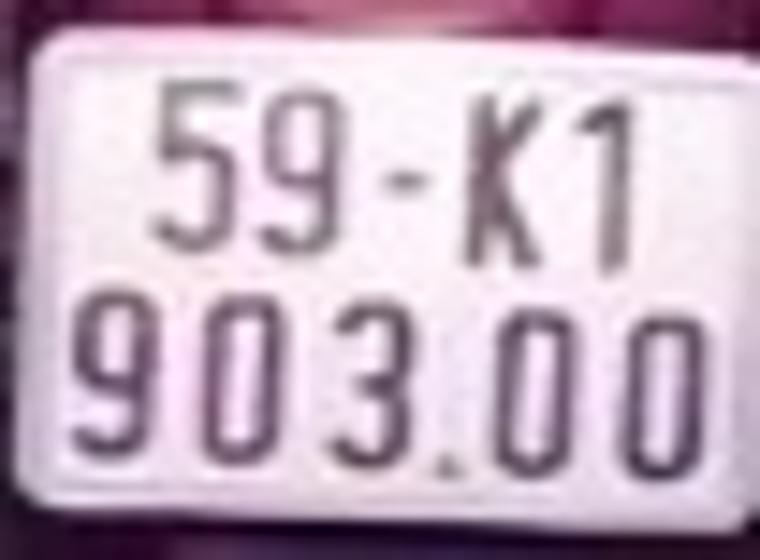-: (381, 167, 430, 210)
.: (430, 444, 464, 482)
0: (606, 300, 710, 477), (194, 291, 287, 472), (494, 298, 574, 473)
1: (576, 81, 644, 274)
3: (316, 287, 413, 473)
5: (144, 69, 242, 250)
9: (257, 79, 348, 268), (57, 284, 154, 461)
K: (461, 88, 552, 280)
